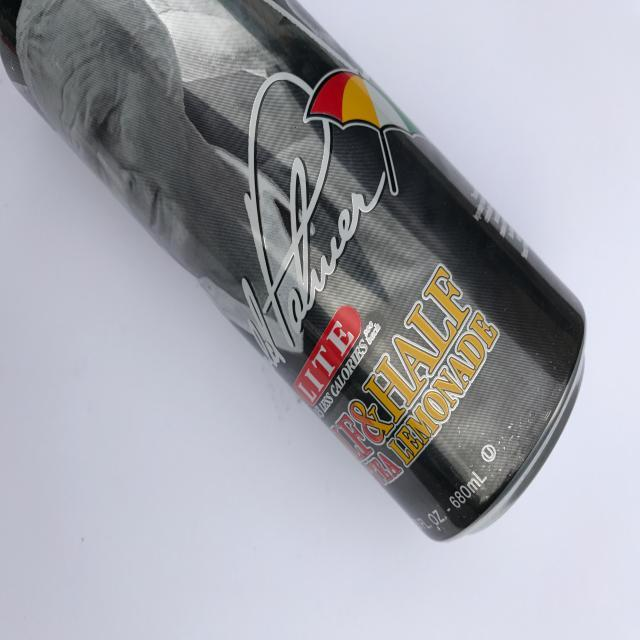metal: (1, 1, 588, 542)
